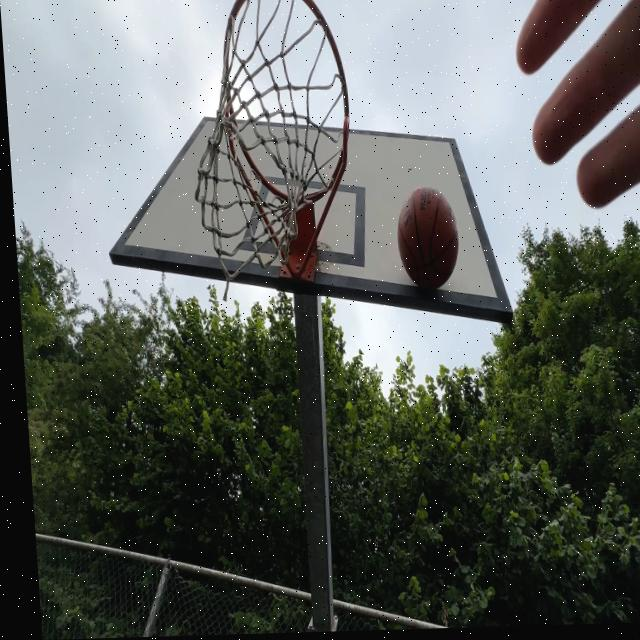rebound_hit: (393, 184, 464, 299)
